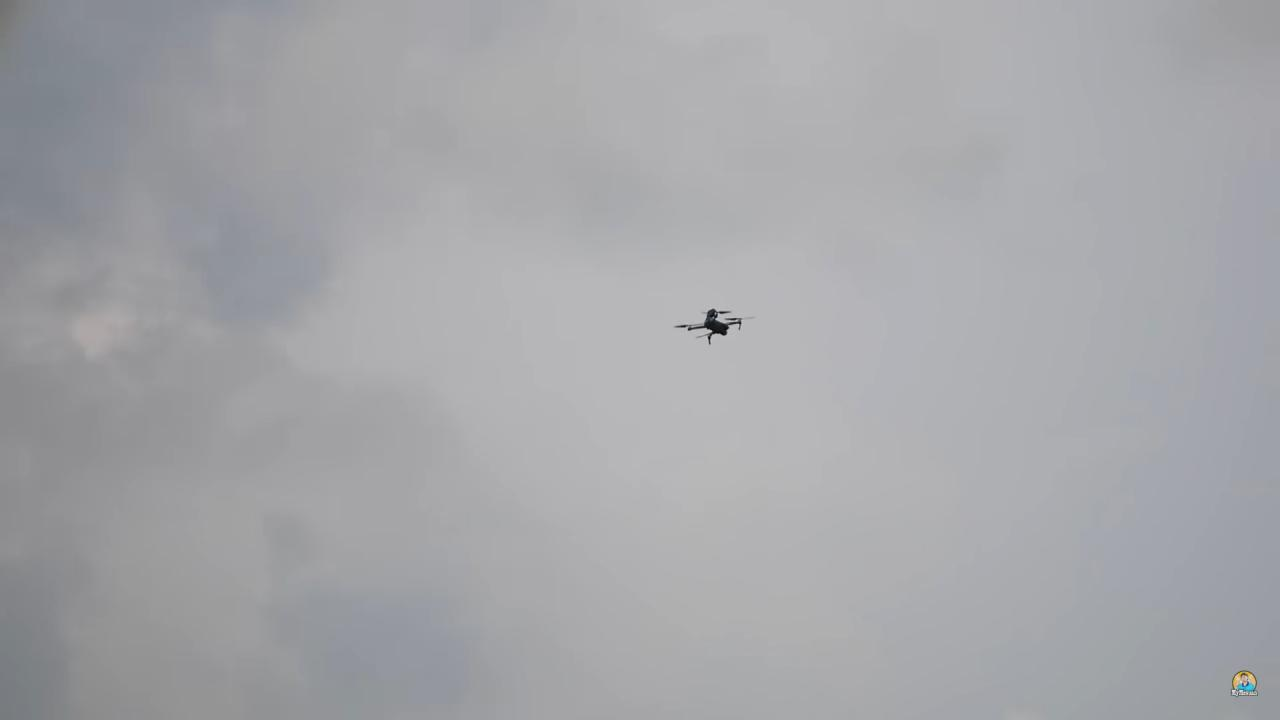Drone: (661, 301, 758, 348)
